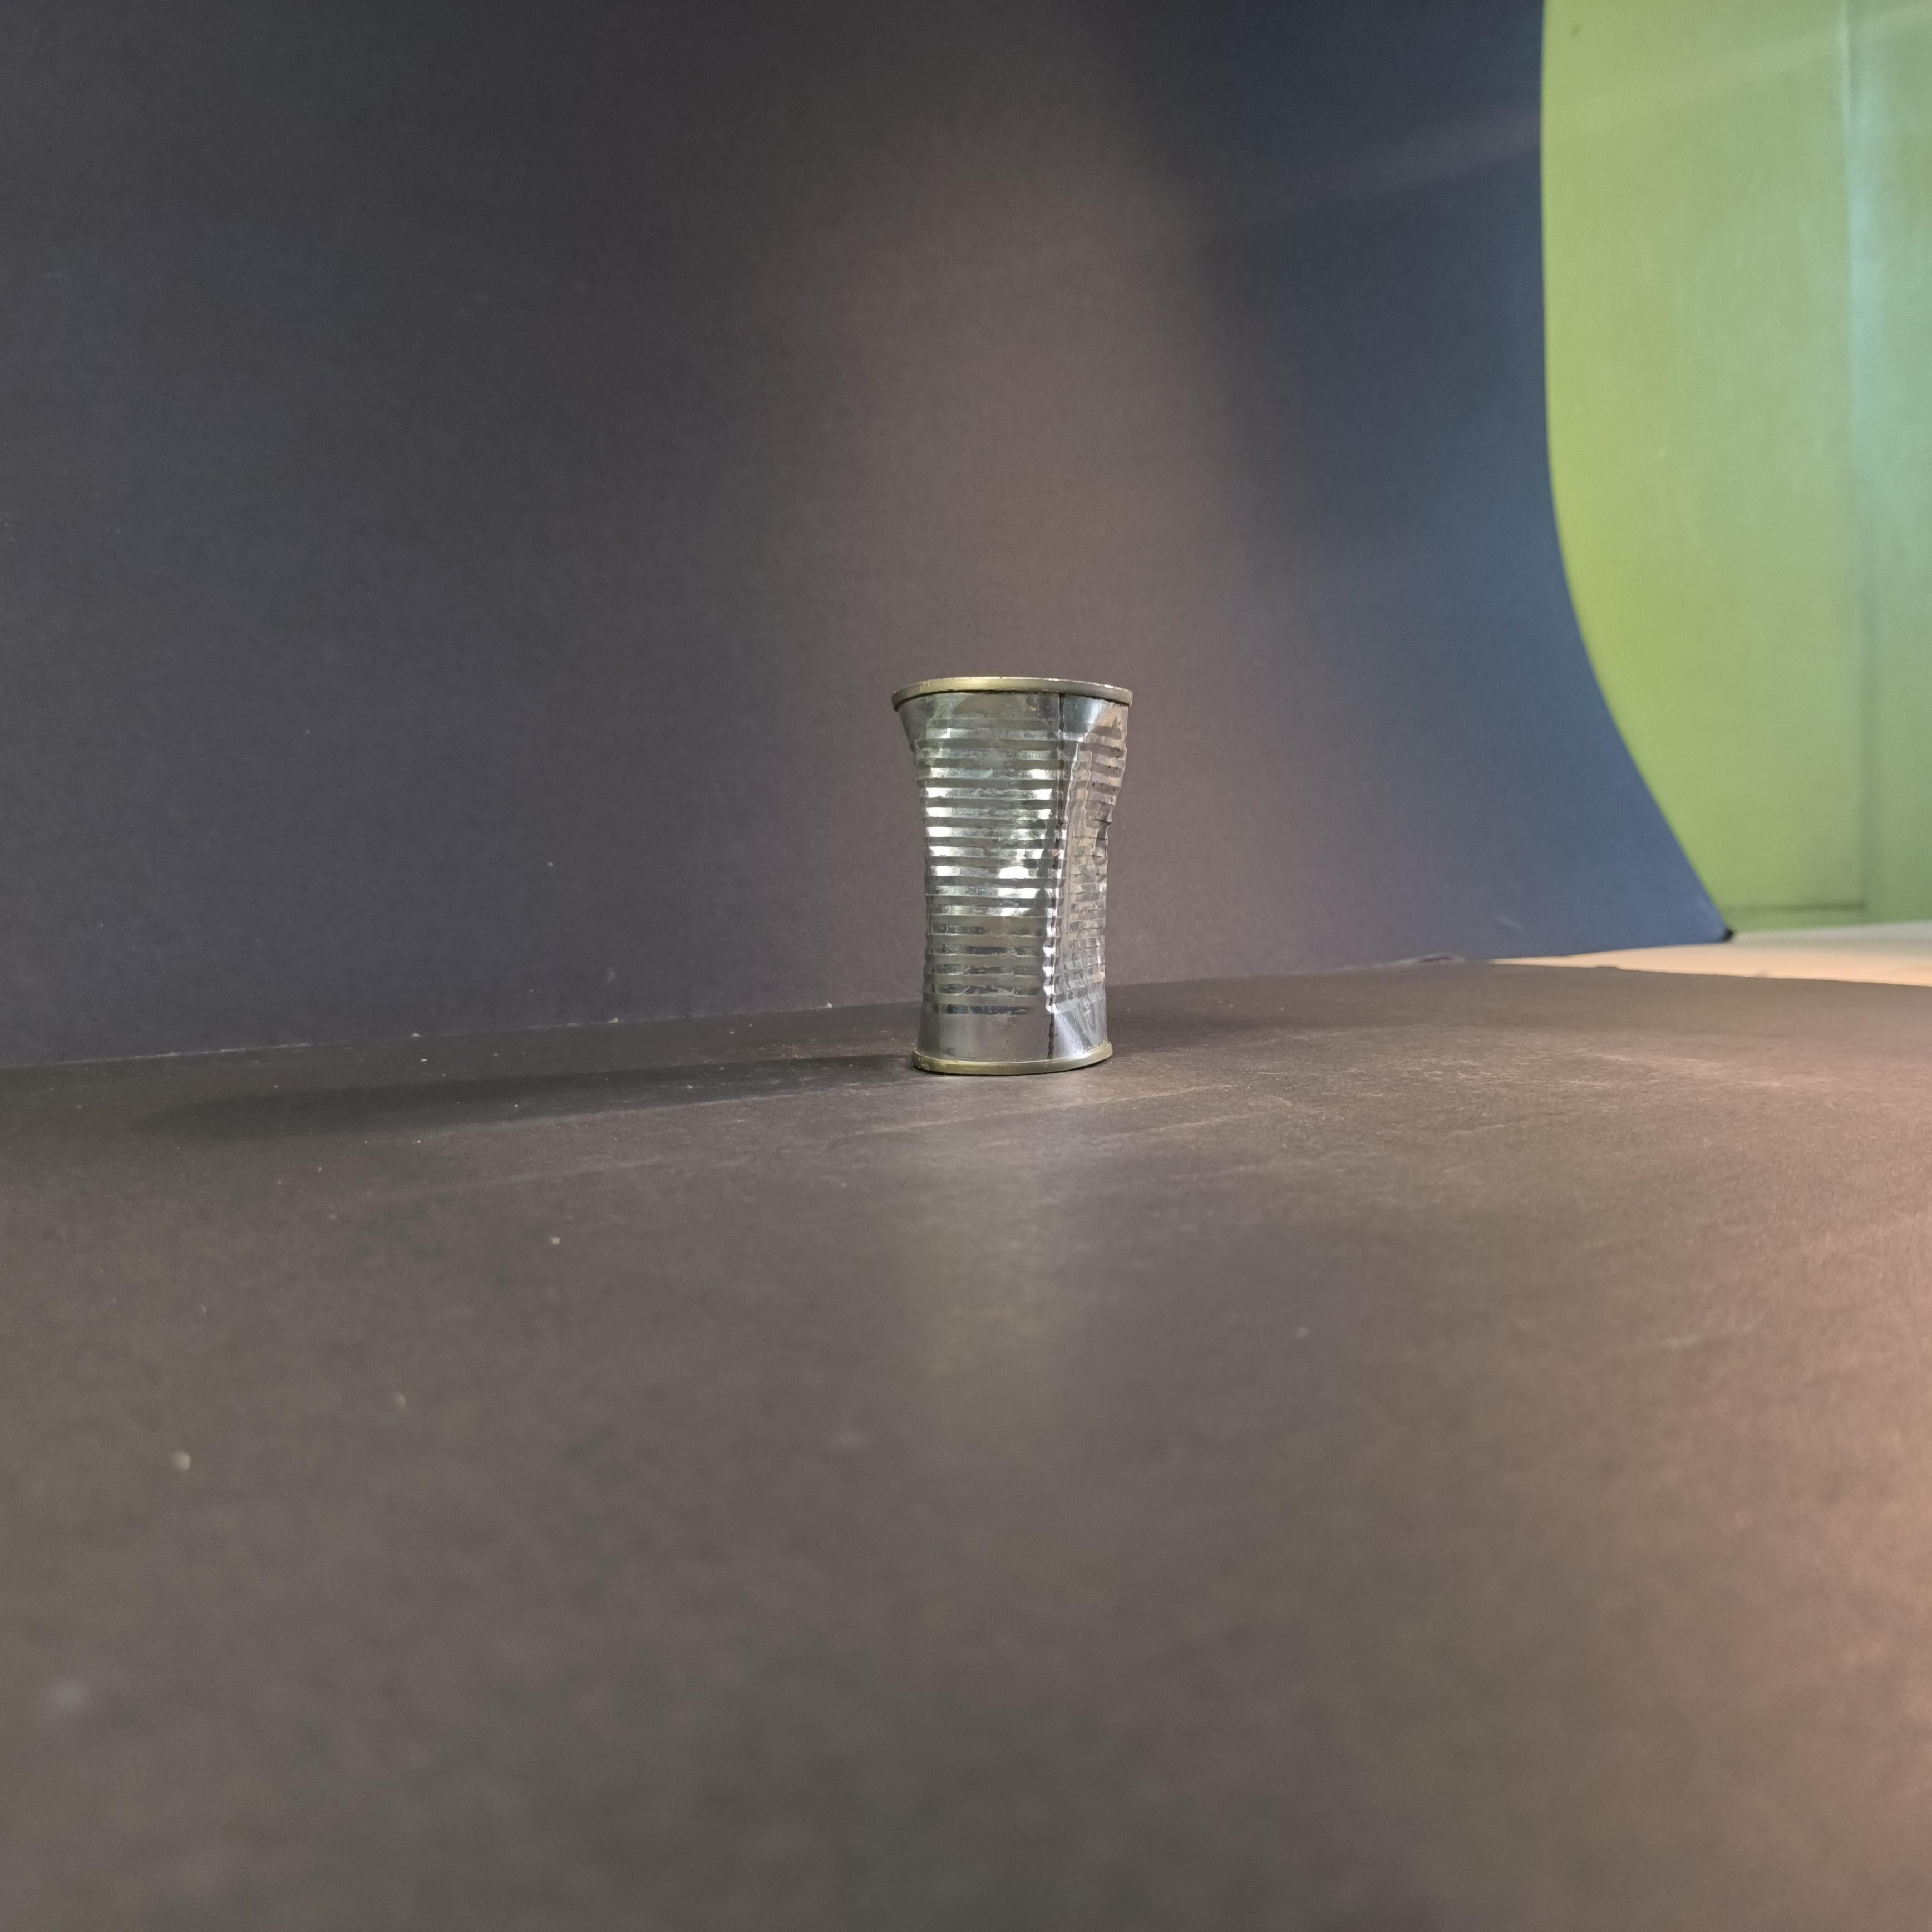Dented: (874, 648, 1155, 1093)
